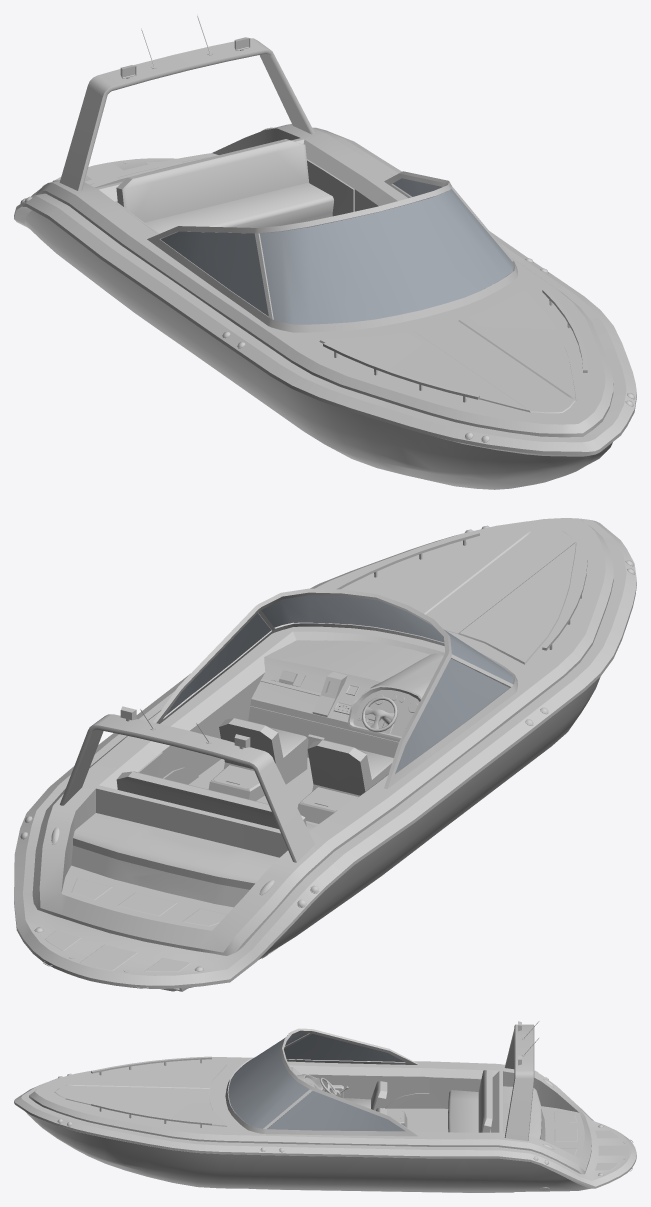
Rendered from TestBoat2.fbx.
3 views of the same model, one above another, from view 1: azimuth 30°, elevation 25°; view 2: azimuth 150°, elevation 25°; view 3: azimuth 270°, elevation 25° (orthographic). The views are drawn at different scales.
Visible parts, largest first — view 1: Motorboat, Motorboat.001; view 2: Motorboat, Motorboat.001; view 3: Motorboat, Motorboat.001.
Boxes of the visible parts, x1=… form: Motorboat: x1=14, y1=15, x2=636, y2=489; Motorboat.001: x1=161, y1=178, x2=513, y2=324; Motorboat: x1=14, y1=518, x2=636, y2=991; Motorboat.001: x1=165, y1=595, x2=513, y2=773; Motorboat: x1=14, y1=1021, x2=636, y2=1192; Motorboat.001: x1=228, y1=1033, x2=405, y2=1131.
Size of the model in its own units: 357 by 271 by 996.
